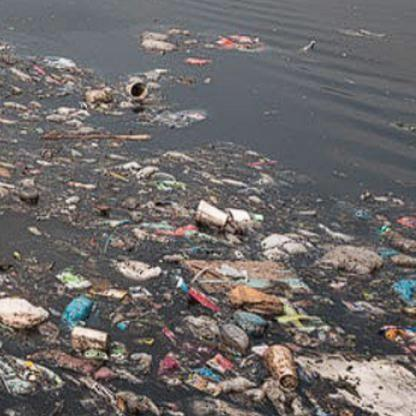Metal: (263, 340, 299, 392), (191, 198, 230, 232)
Plastic: (59, 290, 95, 322)
Trash: (372, 324, 415, 349), (204, 346, 232, 375), (187, 292, 225, 313), (391, 274, 415, 305), (174, 272, 190, 294)
